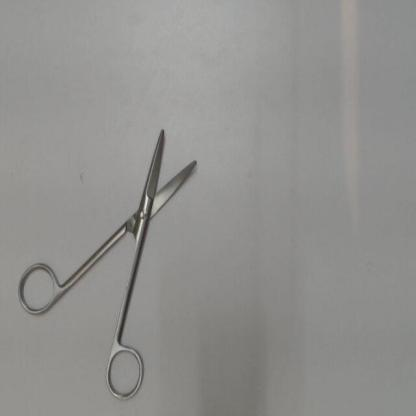Curved Mayo Scissors: (14, 116, 204, 408)
